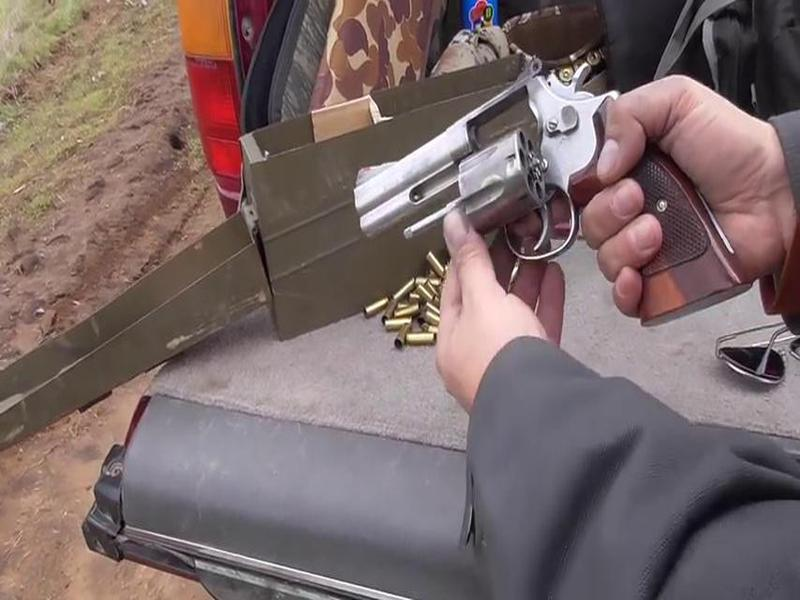Revolver: (314, 36, 782, 344)
